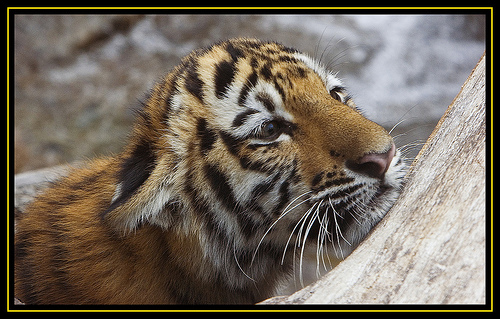Tigre: (125, 36, 414, 286)
